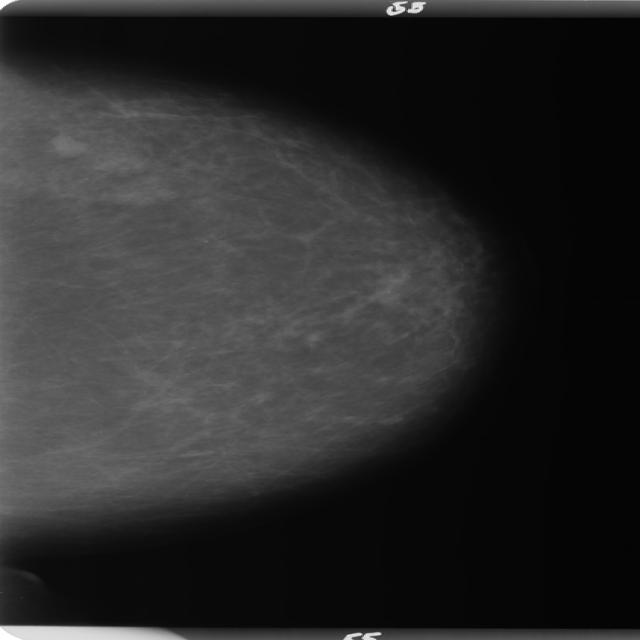tumour: (47, 133, 86, 157)
